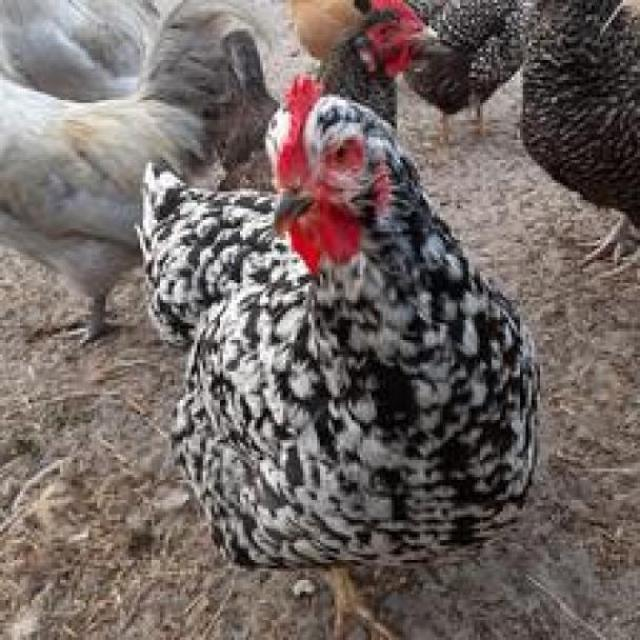Chicken: (93, 92, 582, 640)
